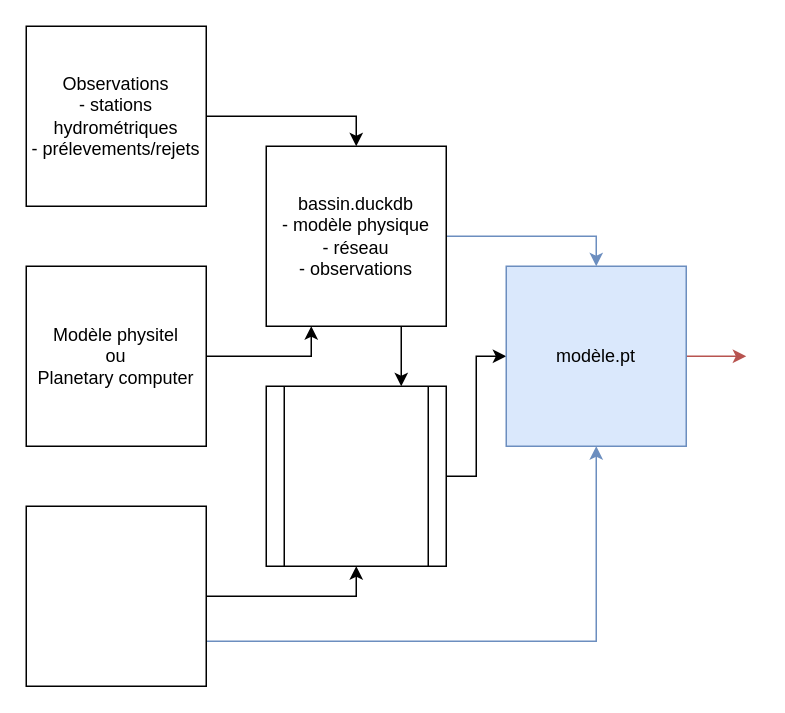
The diagram is 785 pixels wide and 713 high, and some of its shapes have lost their labels. The box of each missing label's shape, as (x1, y1, x2, y2) in pixels:
Entraînement (KGE modifié): (265, 385, 446, 566)
Météo: (25, 505, 206, 686)
